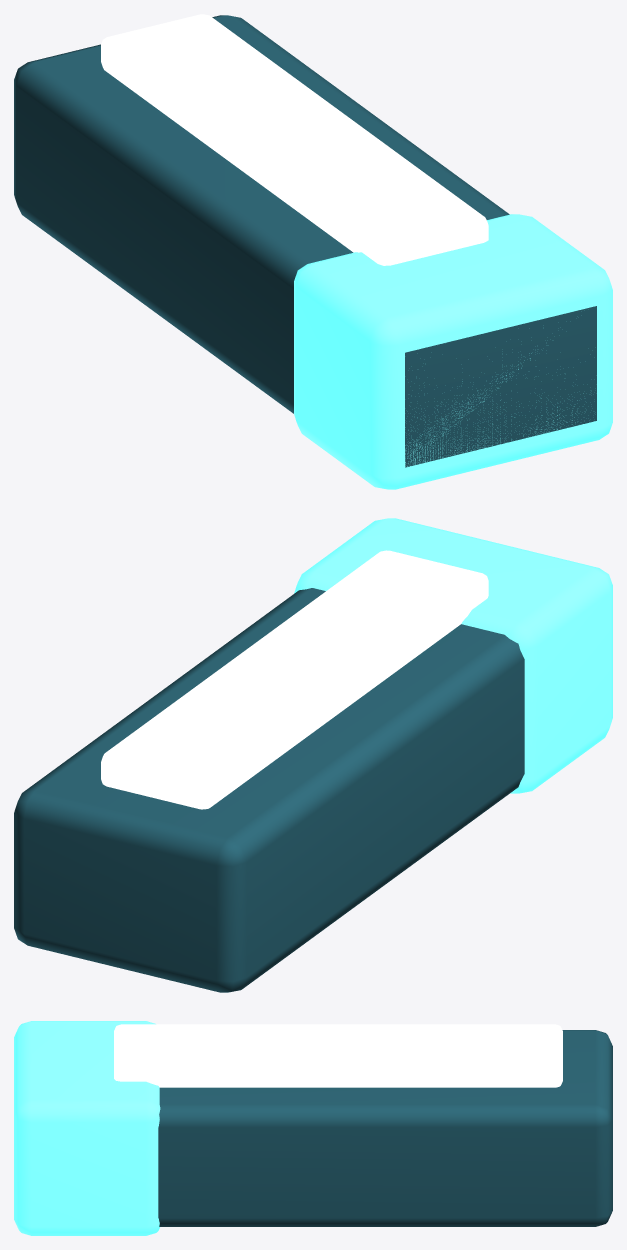
The model's file is scatter.glb.
3 views of the same model, one above another, from view 1: azimuth 30°, elevation 25°; view 2: azimuth 150°, elevation 25°; view 3: azimuth 270°, elevation 25° (orthographic). The views are drawn at different scales.
Visible parts, largest first — view 1: scatter / body / scatter dark structure, scatter / body / scatter identity light, scatter / body / scatter emissive insert; view 2: scatter / body / scatter dark structure, scatter / body / scatter emissive insert, scatter / body / scatter identity light; view 3: scatter / body / scatter dark structure, scatter / body / scatter identity light, scatter / body / scatter emissive insert.
Boxes of the visible parts, box(x1,y1,x2,y2) form: scatter / body / scatter dark structure: box(14, 15, 596, 467); scatter / body / scatter identity light: box(294, 214, 612, 489); scatter / body / scatter emissive insert: box(101, 14, 488, 265); scatter / body / scatter dark structure: box(14, 588, 524, 992); scatter / body / scatter emissive insert: box(101, 550, 488, 809); scatter / body / scatter identity light: box(294, 518, 612, 793); scatter / body / scatter dark structure: box(158, 1030, 612, 1226); scatter / body / scatter identity light: box(14, 1021, 160, 1235); scatter / body / scatter emissive insert: box(114, 1024, 562, 1087).
Bounding box in the file's own units: 4.4 × 3.4 × 12.
